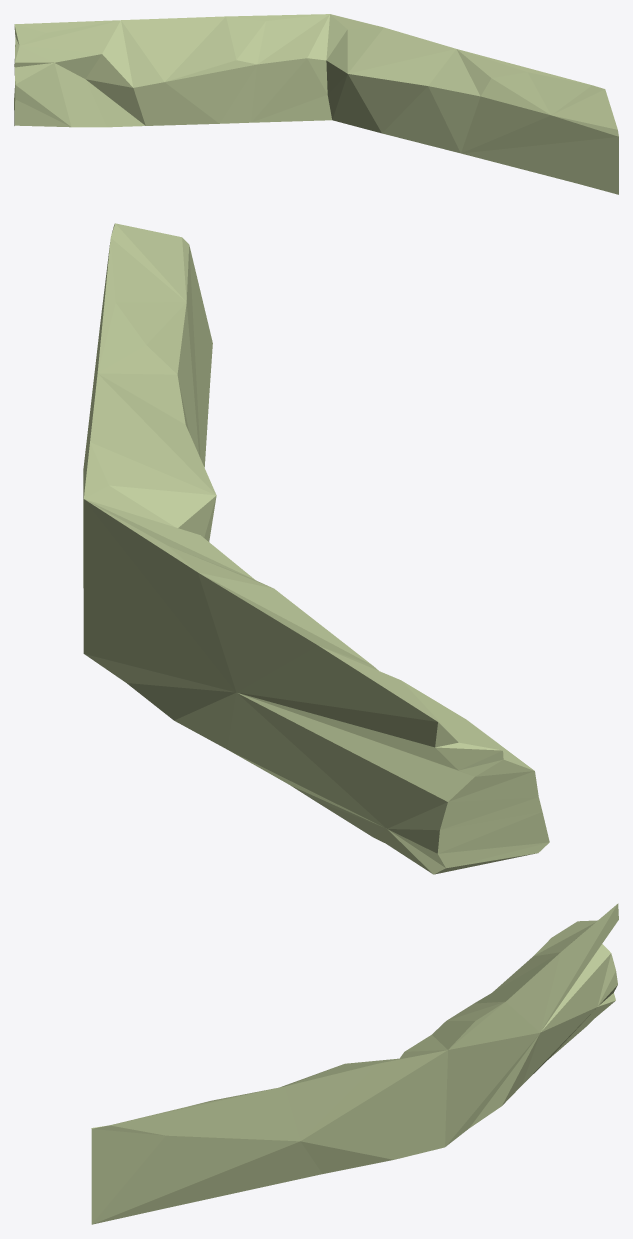
Rendered from hill_17.gltf.
The picture shows the model from 3 angles, top to bottom: view 1: azimuth 30°, elevation 25°; view 2: azimuth 150°, elevation 25°; view 3: azimuth 270°, elevation 25°; orthographic projection. The views are drawn at different scales.
Parts seen in each view (by area): view 1: hill; view 2: hill; view 3: hill.
Boxes of the visible parts, x1,y1,x2,y2 form: hill: [14, 14, 618, 194]; hill: [83, 223, 549, 874]; hill: [91, 903, 618, 1224].
Size of the model in its own units: 4 by 0.8687 by 4.23.
